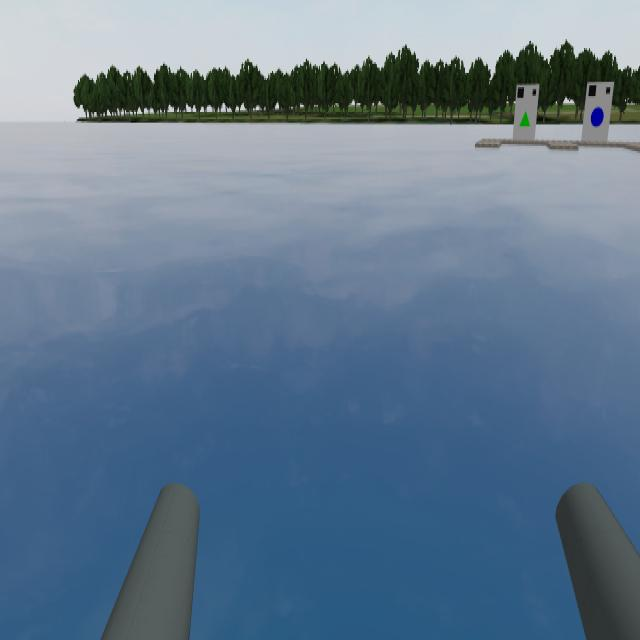dock: (585, 82, 613, 146), (514, 84, 539, 140)
